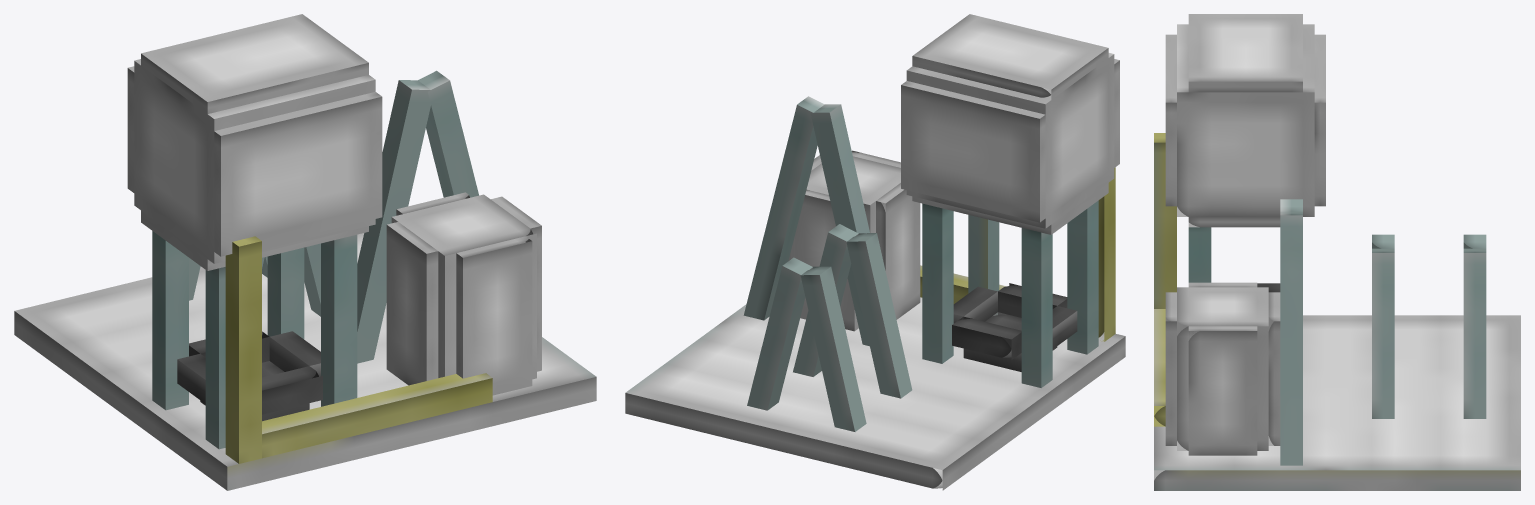
Rendered from stirling_generator.obj.
3 renders of one model, left to right at view 1: azimuth 30°, elevation 25°; view 2: azimuth 150°, elevation 25°; view 3: azimuth 270°, elevation 25°, orthographic. The views are drawn at different scales.
Parts seen in each view (by area): view 1: base; view 2: base; view 3: base.
Part boxes in pixels (x1,y1,x2,y2): base: (14,14,596,490); base: (625,14,1125,490); base: (1154,14,1520,490).
Size of the model in its own units: 1 by 0.9745 by 1.
